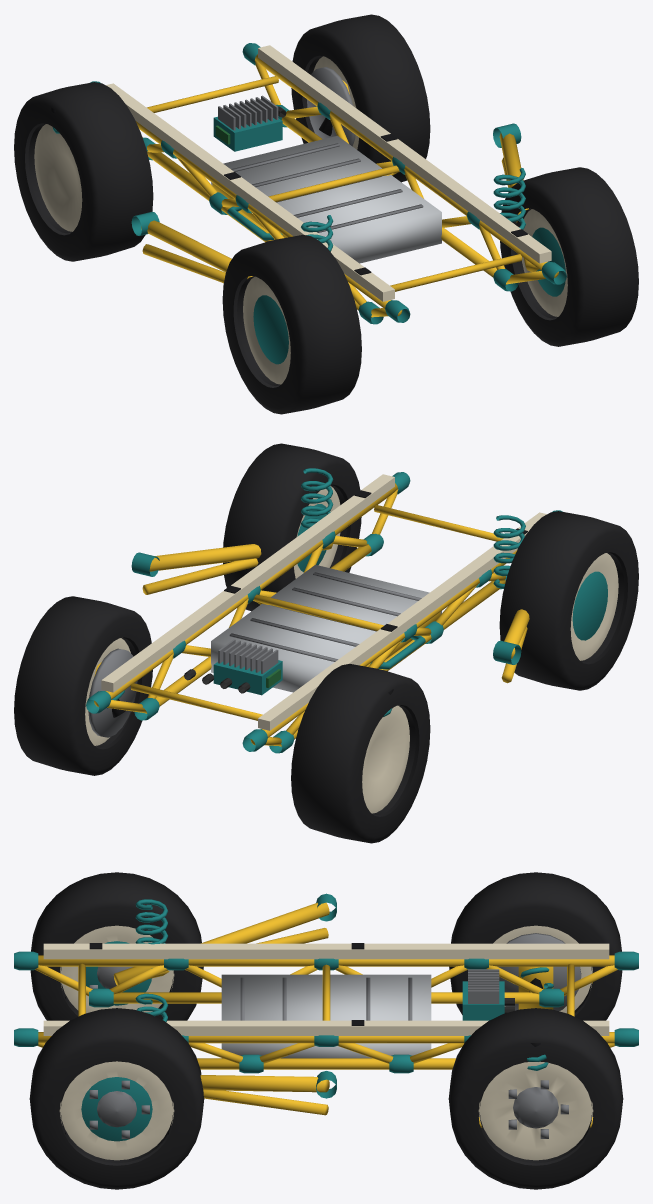
Rendered from solana_m12.glb.
3 renders of one model, top to bottom at view 1: azimuth 30°, elevation 25°; view 2: azimuth 150°, elevation 25°; view 3: azimuth 270°, elevation 25°, orthographic.
Visible parts, largest first — view 1: wheel_FL, wheel_BL, wheel_BR, cassette, wheel_FR, mount_rail_R, truss_R, mount_rail_L, truss_L, corner_BL, controller, corner_BR (+6 smaller); view 2: wheel_FL, wheel_BL, wheel_FR, cassette, wheel_BR, truss_R, mount_rail_R, mount_rail_L, corner_BR, truss_L, controller, corner_BL (+5 smaller); view 3: wheel_FR, wheel_BR, wheel_BL, cassette, wheel_FL, truss_L, mount_rail_L, truss_R, mount_rail_R, corner_BR, corner_BL, wheel_BR_motor (+4 smaller).
Part boxes in pixels (left/top/right/bottom): wheel_FL: left=14, top=82, right=153, bottom=261; wheel_BL: left=222, top=235, right=361, bottom=414; wheel_BR: left=500, top=167, right=638, bottom=346; cassette: left=211, top=135, right=441, bottom=263; wheel_FR: left=291, top=14, right=430, bottom=182; mount_rail_R: left=258, top=45, right=551, bottom=263; truss_R: left=242, top=43, right=566, bottom=291; mount_rail_L: left=106, top=83, right=394, bottom=301; truss_L: left=90, top=81, right=410, bottom=324; corner_BL: left=131, top=211, right=333, bottom=283; controller: left=213, top=95, right=286, bottom=151; corner_BR: left=493, top=123, right=538, bottom=271; wheel_FL: left=291, top=664, right=430, bottom=843; wheel_BL: left=499, top=511, right=638, bottom=690; wheel_FR: left=14, top=596, right=152, bottom=775; cassette: left=211, top=564, right=441, bottom=692; wheel_BR: left=223, top=443, right=361, bottom=611; truss_R: left=86, top=472, right=410, bottom=720; mount_rail_R: left=101, top=474, right=394, bottom=692; mount_rail_L: left=258, top=512, right=546, bottom=730; corner_BR: left=131, top=468, right=333, bottom=594; truss_L: left=242, top=510, right=562, bottom=753; controller: left=184, top=639, right=282, bottom=695; corner_BL: left=493, top=515, right=529, bottom=683; wheel_FR: left=448, top=1008, right=623, bottom=1189; wheel_BR: left=29, top=1008, right=204, bottom=1189; wheel_BL: left=30, top=872, right=203, bottom=1020; cassette: left=221, top=974, right=431, bottom=1058; wheel_FL: left=449, top=872, right=622, bottom=1020; truss_L: left=14, top=951, right=638, bottom=1007; mount_rail_L: left=43, top=943, right=609, bottom=959; truss_R: left=14, top=1028, right=638, bottom=1073; mount_rail_R: left=43, top=1020, right=609, bottom=1035; corner_BR: left=135, top=993, right=336, bottom=1115; corner_BL: left=113, top=893, right=336, bottom=985; wheel_BR_motor: left=65, top=1077, right=168, bottom=1141.
Bounding box in the file's own units: 1.26 × 0.5166 × 1.79.
